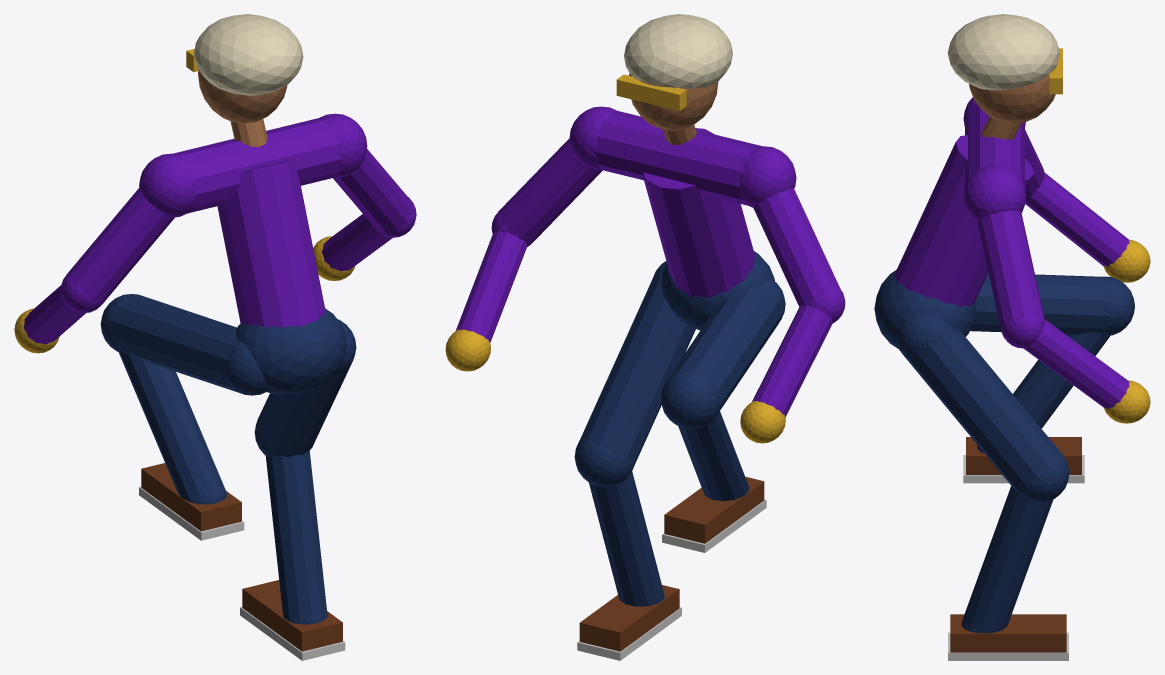
File: rider-4.glb
3 renders of one model, left to right at view 1: azimuth 30°, elevation 25°; view 2: azimuth 150°, elevation 25°; view 3: azimuth 270°, elevation 25°, orthographic. The views are drawn at different scales.
Visible parts, largest first — view 1: rider_legs, rider_torso, rider_arms, rider_head; view 2: rider_legs, rider_torso, rider_arms, rider_head; view 3: rider_legs, rider_torso, rider_arms, rider_head.
Part boxes in pixels (x1,y1,x2,y2): rider_legs: (100, 294, 356, 660); rider_torso: (139, 113, 367, 394); rider_arms: (14, 149, 416, 353); rider_head: (186, 14, 303, 146); rider_legs: (574, 261, 785, 660); rider_torso: (569, 106, 796, 330); rider_arms: (445, 138, 845, 443); rider_head: (616, 14, 732, 144); rider_legs: (896, 273, 1134, 660); rider_torso: (874, 97, 1033, 348); rider_arms: (977, 130, 1150, 423); rider_head: (947, 14, 1062, 139).
Size of the model in its own units: 0.9451 by 1.61 by 0.6642.
